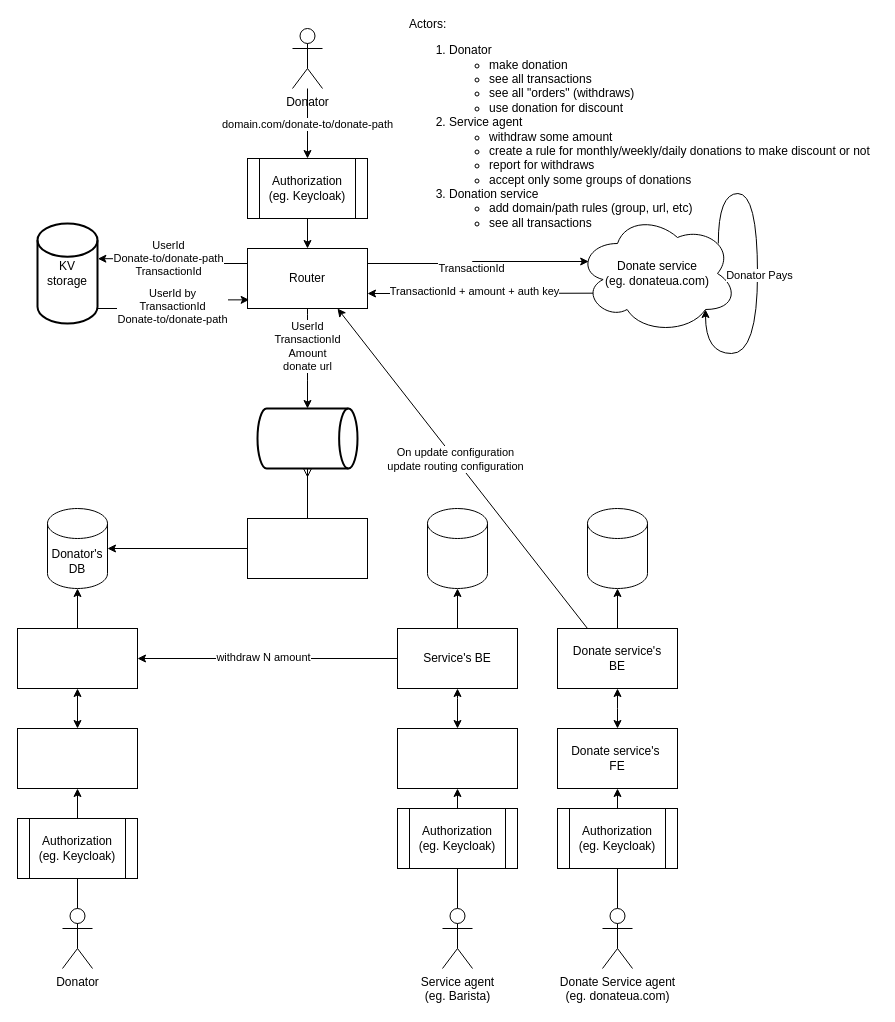
Image size: 895x1022. Some labels were removed from this diagram. Each missing label, with the box of its shape:
Donate service DB: (586, 508, 648, 588)
Donator's BE: (16, 628, 138, 688)
Donator's FE: (16, 728, 138, 788)
Queue: (256, 407, 358, 469)
Service's DB: (426, 508, 488, 588)
Service's FE: (396, 728, 518, 788)
Transaction register worker: (246, 518, 368, 578)
